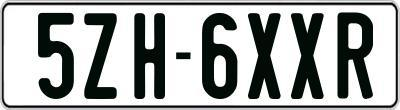5: (35, 11, 75, 103)
6: (200, 13, 235, 103)
H: (133, 11, 169, 103)
R: (338, 10, 374, 97)
X: (248, 12, 287, 98), (288, 10, 322, 96)
Z: (81, 11, 119, 98)
